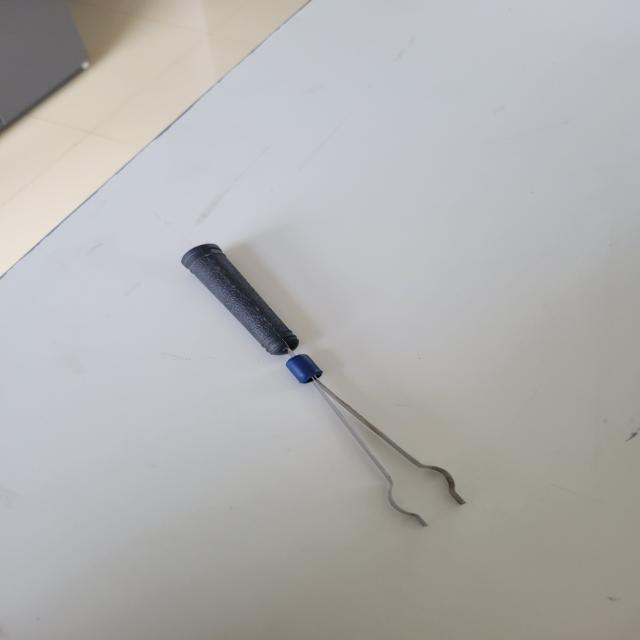TestTube_Holder: (155, 218, 526, 564)
